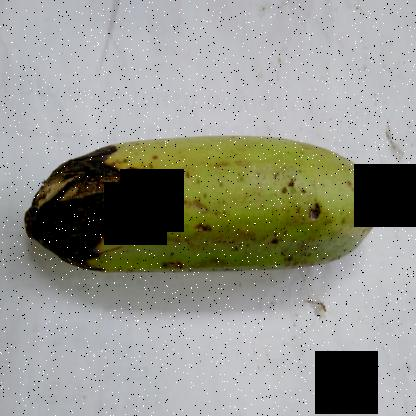rotten: (22, 146, 178, 306)
unripe: (143, 120, 402, 307)
